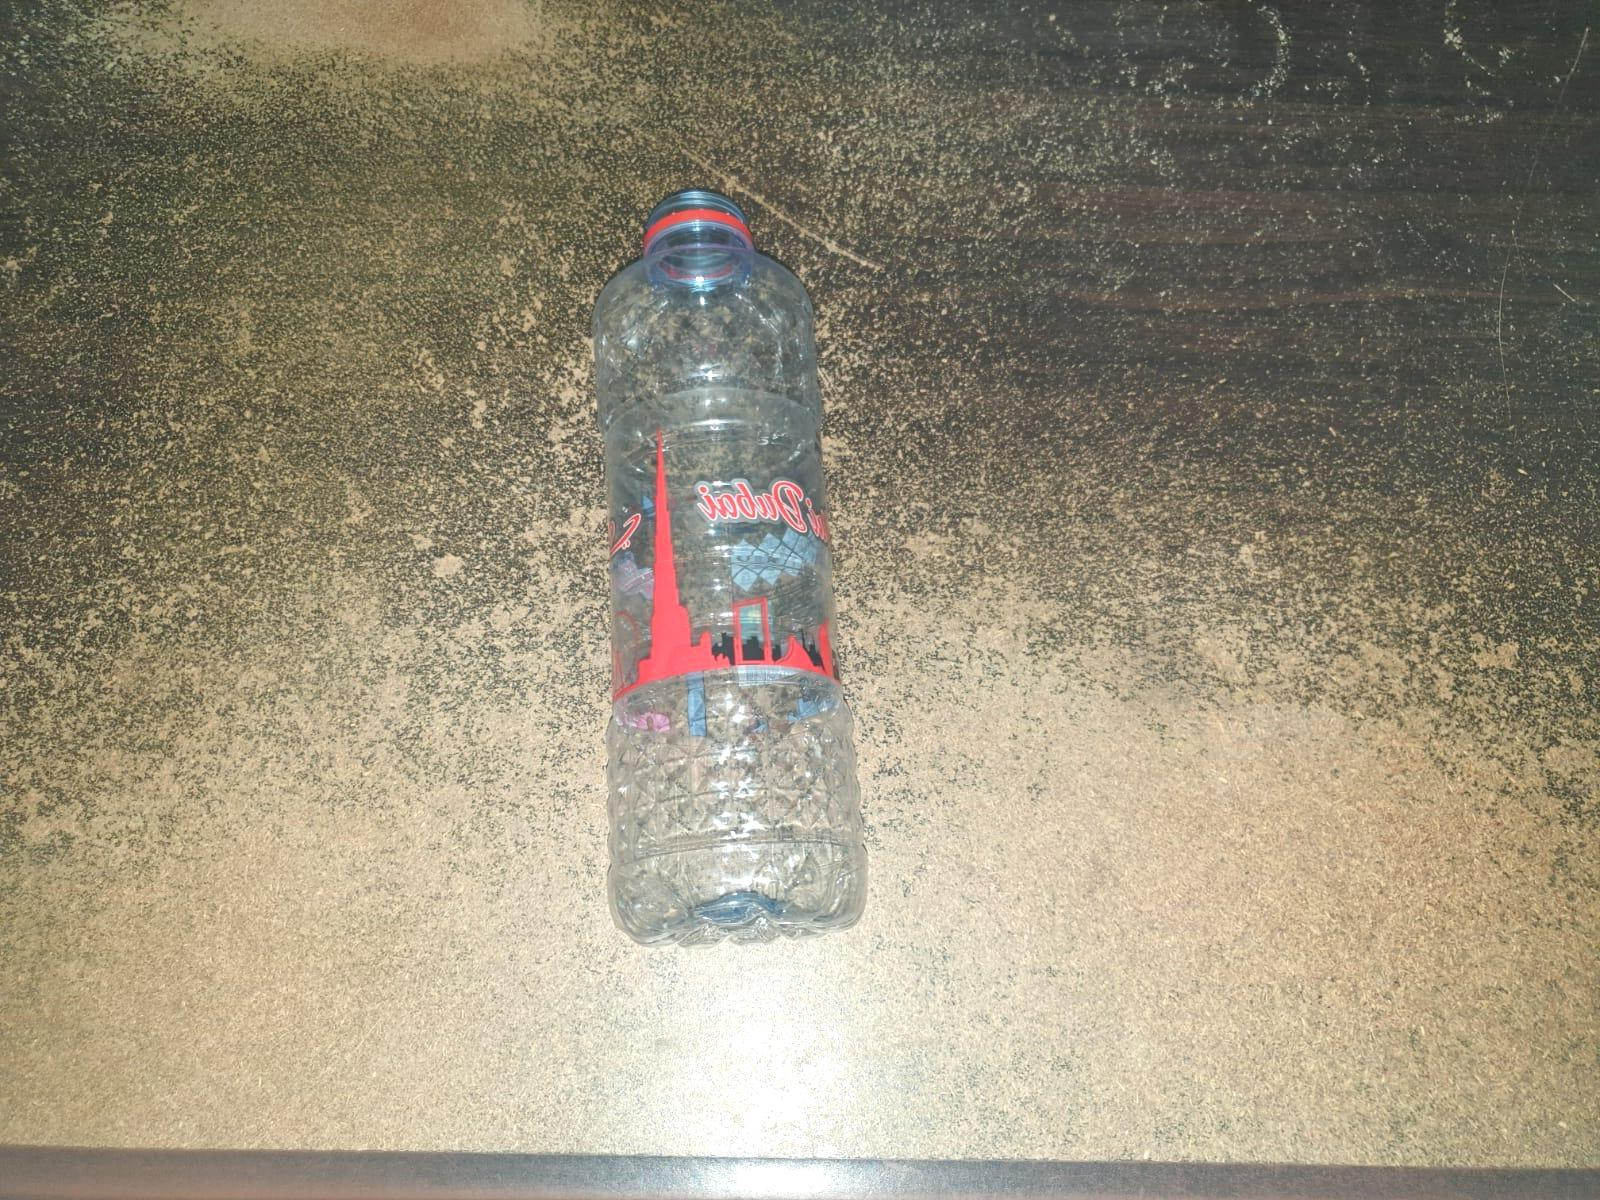bottle: (577, 182, 877, 982)
